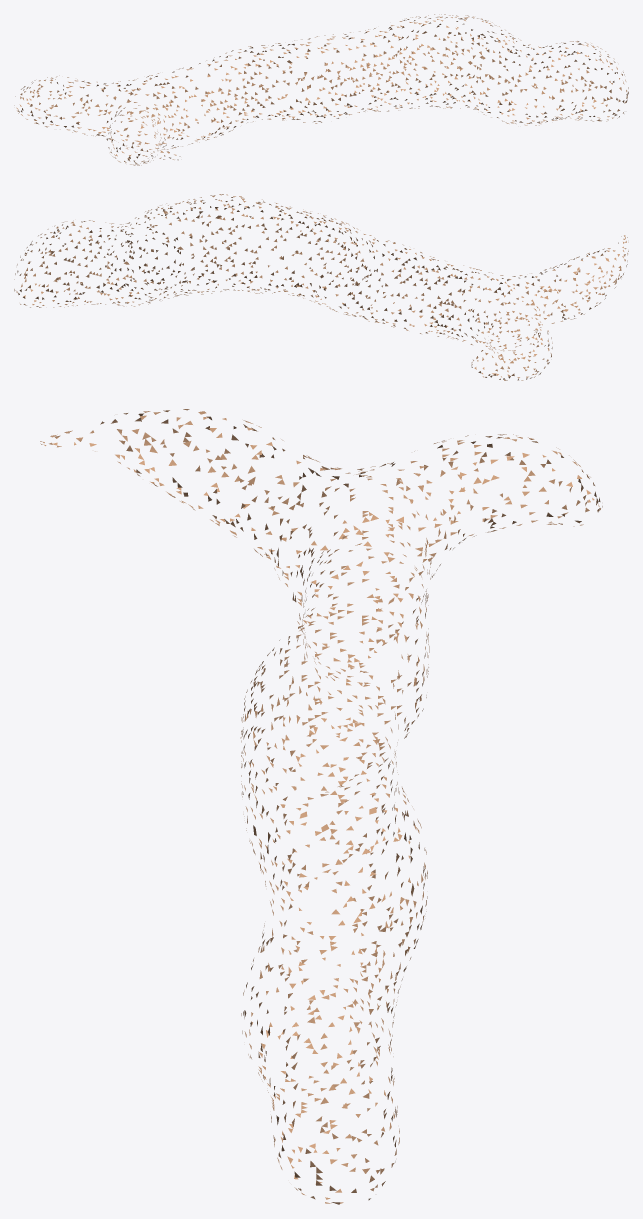
File: morph_005.glb
The picture shows the model from 3 angles, top to bottom: view 1: azimuth 30°, elevation 25°; view 2: azimuth 150°, elevation 25°; view 3: azimuth 270°, elevation 25°; orthographic projection. The views are drawn at different scales.
Bounding box in the file's own units: 120 × 30.31 × 52.54.
